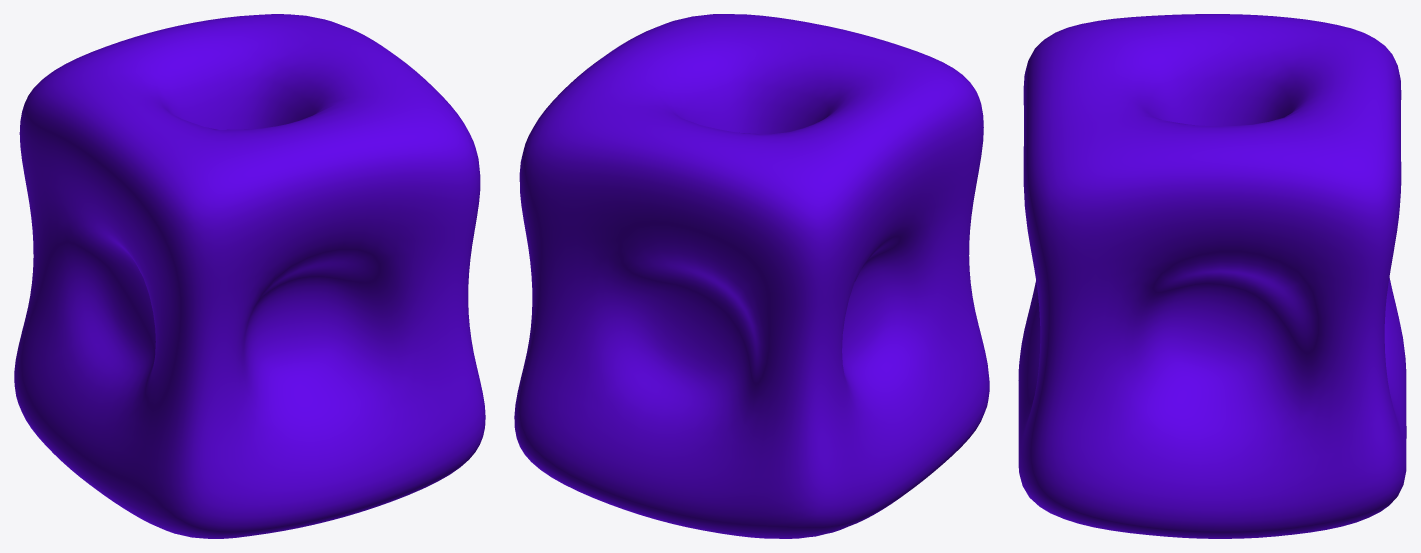
File: DiceBalloon.fbx
The picture shows the model from 3 angles, left to right: view 1: azimuth 30°, elevation 25°; view 2: azimuth 150°, elevation 25°; view 3: azimuth 270°, elevation 25°; orthographic projection. The views are drawn at different scales.
Parts seen in each view (by area): view 1: DiceBalloon; view 2: DiceBalloon; view 3: DiceBalloon.
Boxes of the visible parts, <box> form: DiceBalloon: <box>14,14,485,538</box>; DiceBalloon: <box>514,14,989,538</box>; DiceBalloon: <box>1018,14,1406,538</box>.
Size of the model in its own units: 49.9 by 55.83 by 49.8.
